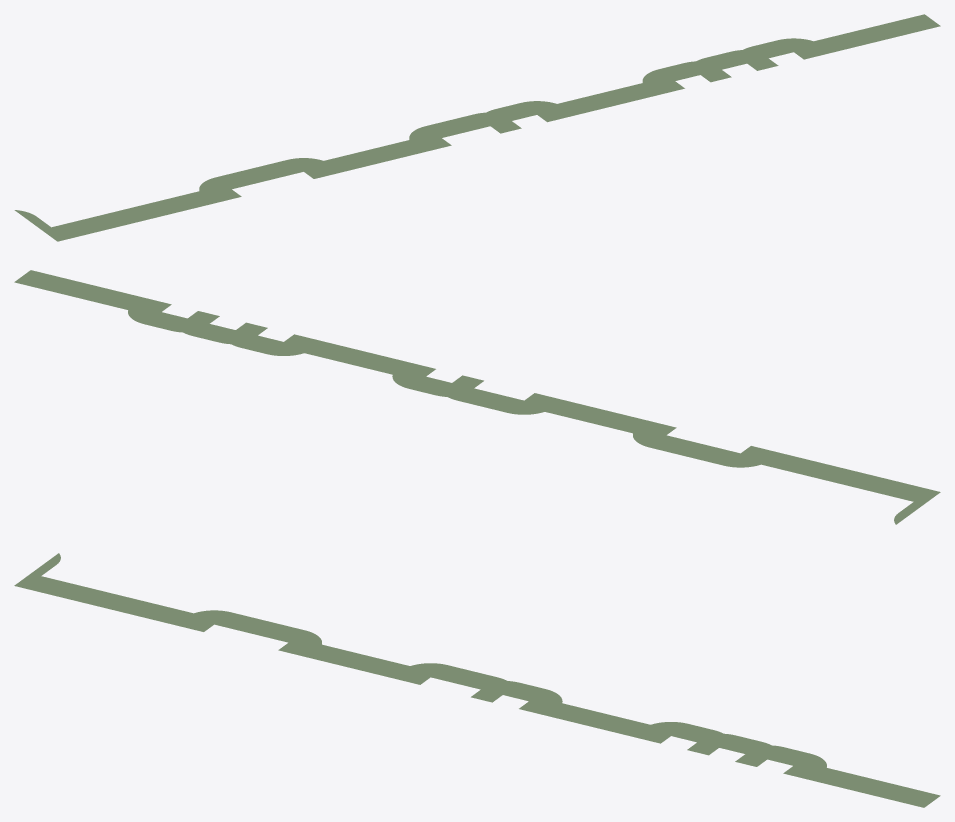
The model's file is SM_MPRR_CampusGreen_-1_0.fbx.
3 renders of one model, top to bottom at view 1: azimuth 30°, elevation 25°; view 2: azimuth 150°, elevation 25°; view 3: azimuth 330°, elevation 25°, orthographic. The views are drawn at different scales.
Visible parts, largest first — view 1: SM_MPRR_CampusGreen_-1_0; view 2: SM_MPRR_CampusGreen_-1_0; view 3: SM_MPRR_CampusGreen_-1_0.
Part boxes in pixels (x1=…): SM_MPRR_CampusGreen_-1_0: x1=14, y1=14, x2=940, y2=241; SM_MPRR_CampusGreen_-1_0: x1=14, y1=270, x2=940, y2=524; SM_MPRR_CampusGreen_-1_0: x1=14, y1=553, x2=940, y2=807.
Size of the model in its own units: 15000 by 1281 by 0.
